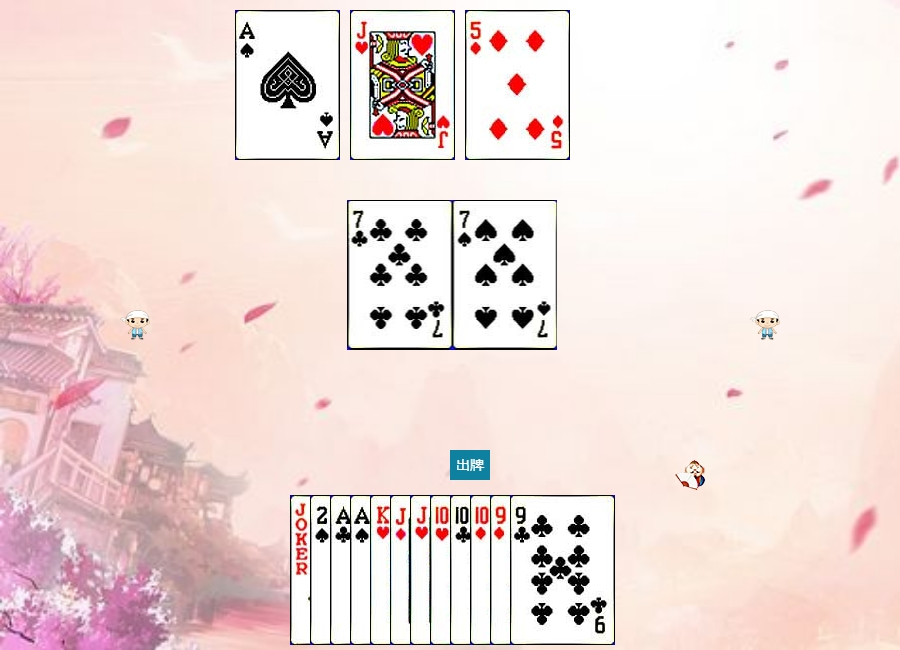10~1: (470, 495, 575, 645)
10~2: (450, 495, 555, 645)
10~3: (430, 495, 535, 645)
11~1: (390, 495, 495, 645)
11~3: (350, 10, 455, 160), (410, 495, 515, 645)
13~3: (370, 495, 475, 645)
14~2: (330, 495, 435, 645)
14~4: (235, 10, 340, 160), (350, 495, 455, 645)
15~4: (310, 495, 415, 645)
18~4: (290, 495, 395, 645)
5~1: (465, 10, 570, 160)
7~2: (348, 200, 453, 350)
7~4: (453, 200, 558, 350)
9~1: (490, 495, 595, 645)
9~2: (510, 495, 615, 645)
